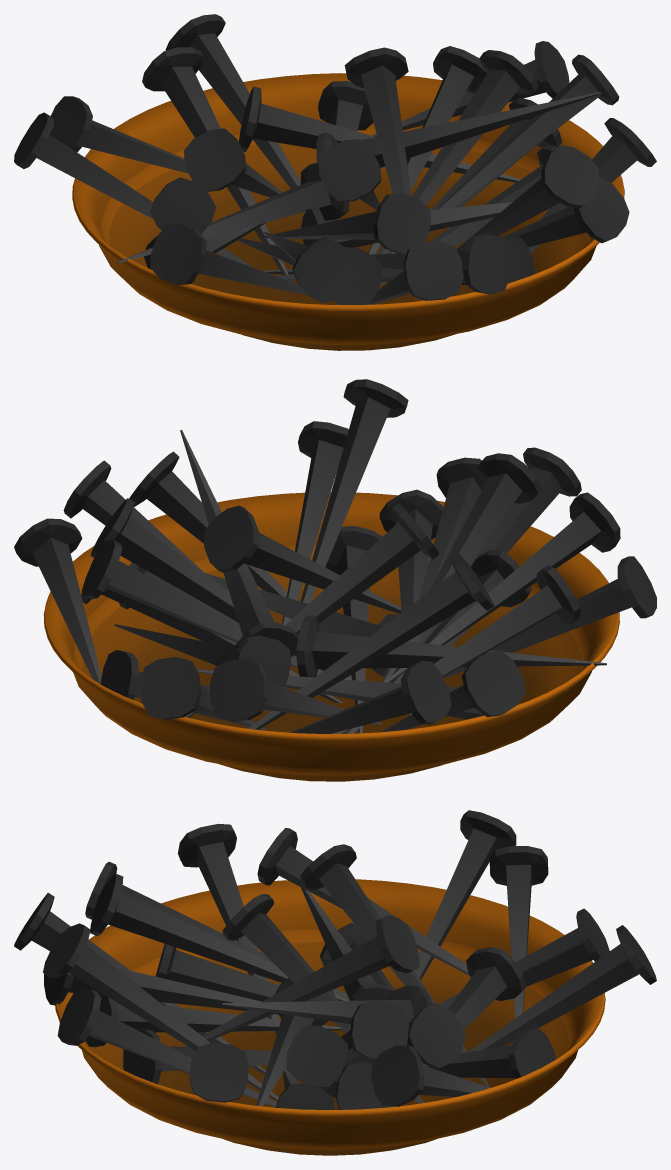
The model's file is nails.glb.
3 views of the same model, one above another, from view 1: azimuth 30°, elevation 25°; view 2: azimuth 150°, elevation 25°; view 3: azimuth 270°, elevation 25° (orthographic). The views are drawn at different scales.
Visible parts, largest first — view 1: plate; view 2: plate; view 3: plate.
Part boxes in pixels (x1,y1,x2,y2): plate: [14, 14, 656, 350]; plate: [14, 379, 656, 781]; plate: [14, 810, 656, 1155].
Bounding box in the file's own units: 0.585 × 0.2289 × 0.6322.
1 material, 1 textured.
